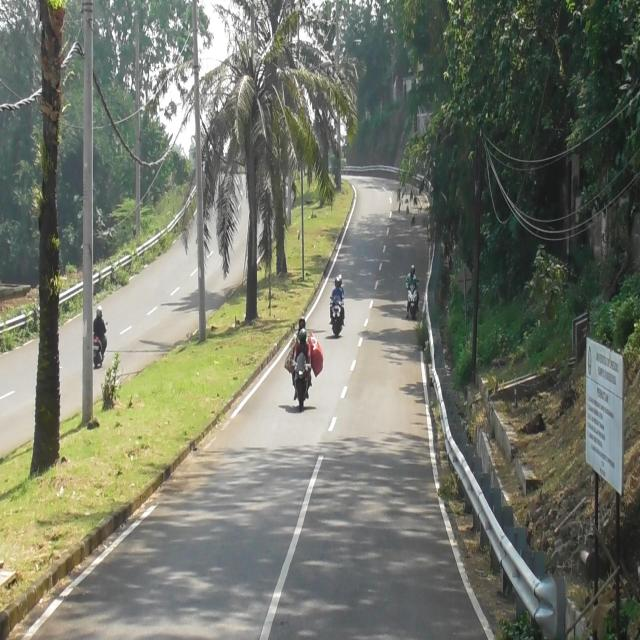motorcycle: (289, 352, 313, 412), (331, 296, 345, 332), (93, 332, 107, 368), (408, 283, 420, 318)
person: (292, 331, 312, 372), (93, 306, 107, 333), (406, 262, 419, 290), (331, 276, 344, 303), (295, 316, 309, 341), (336, 274, 345, 293)
rider_region: (283, 311, 315, 407), (328, 266, 346, 338), (88, 307, 109, 365), (404, 259, 421, 318)
